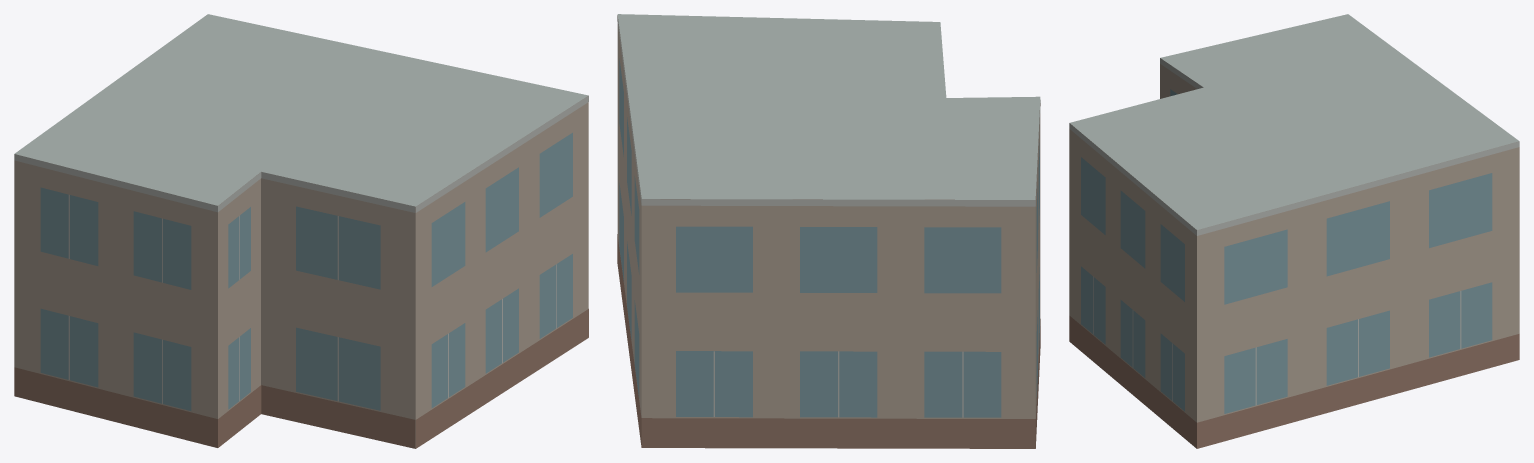
File: survey-upis-32463721.glb
3 renders of one model, left to right at view 1: azimuth 30°, elevation 25°; view 2: azimuth 150°, elevation 25°; view 3: azimuth 270°, elevation 25°, orthographic. The views are drawn at different scales.
Visible parts, largest first — view 1: survey-upis-32463721.tmp; view 2: survey-upis-32463721.tmp; view 3: survey-upis-32463721.tmp.
Boxes of the visible parts, box(x1,y1,x2,y2) form: survey-upis-32463721.tmp: box(14, 14, 588, 448); survey-upis-32463721.tmp: box(617, 14, 1040, 448); survey-upis-32463721.tmp: box(1069, 14, 1519, 448).
Size of the model in its own units: 19.3 by 9.1 by 16.98.
